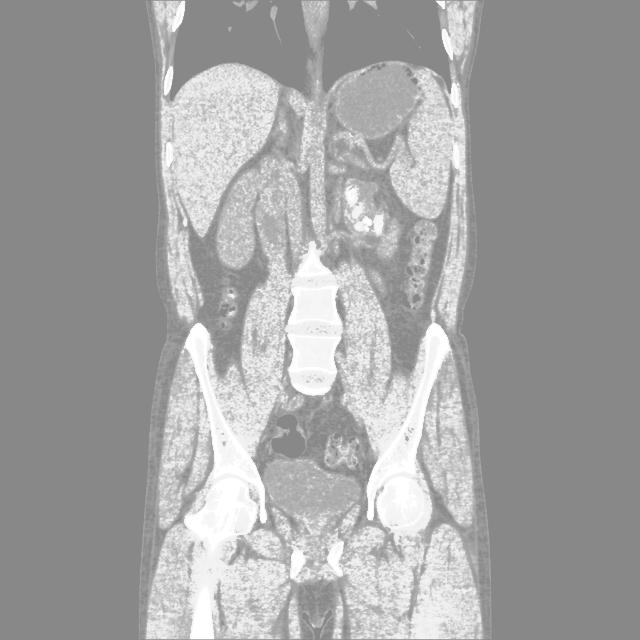STONE: (80, 173, 529, 499)
